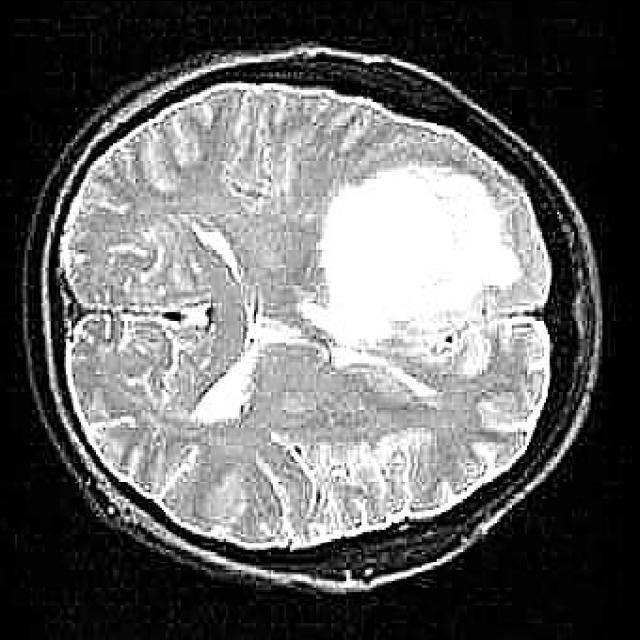tumor: (307, 167, 518, 351)
